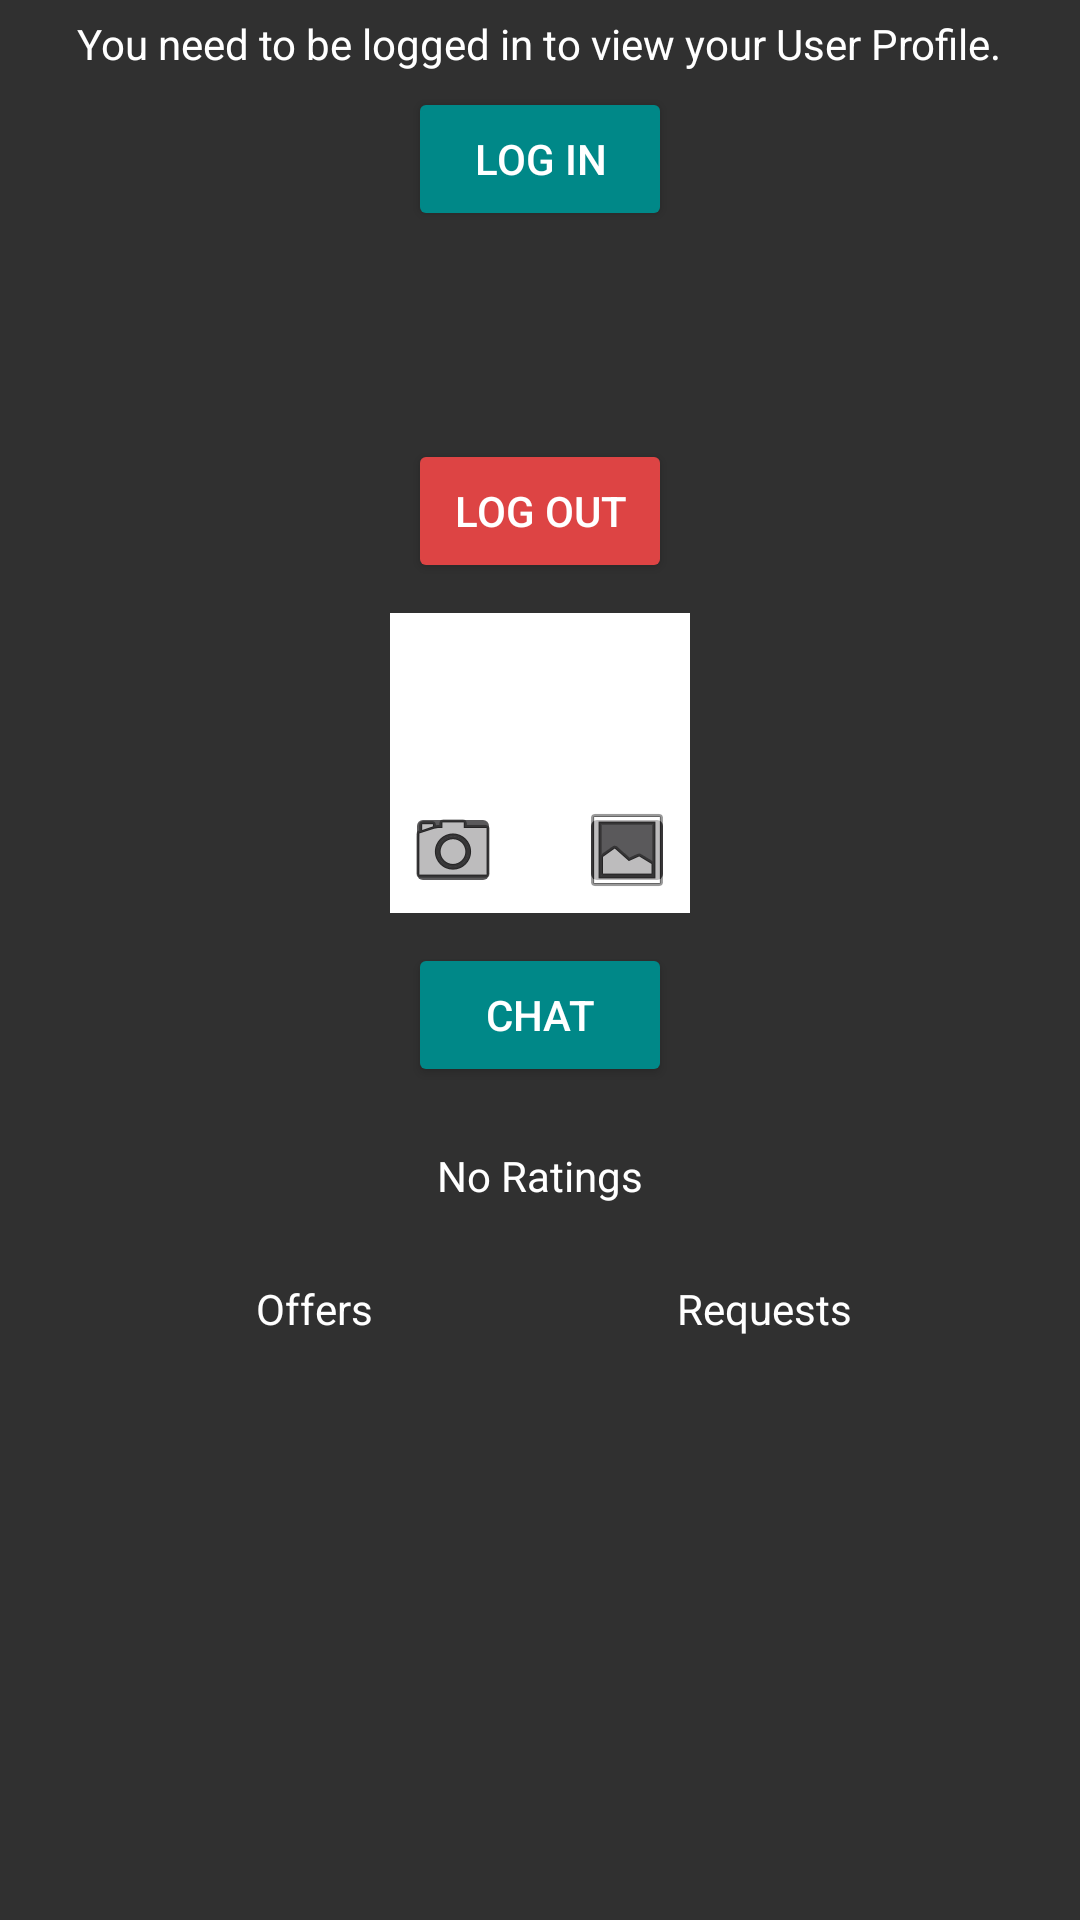

Screen size 1080 x 1920. Icon name, then its center in pixels as (x=x, y=y):
Open Camera: (x=453, y=849)
Open Gallery: (x=627, y=850)
